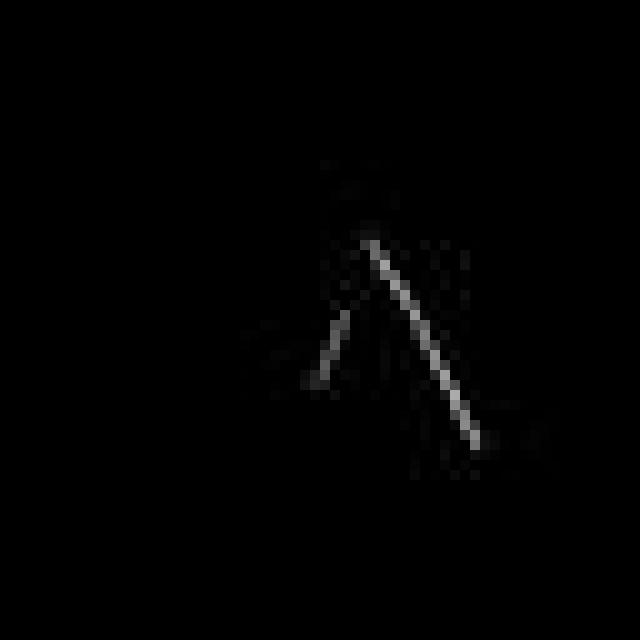8 -eight-: (296, 223, 501, 470)
